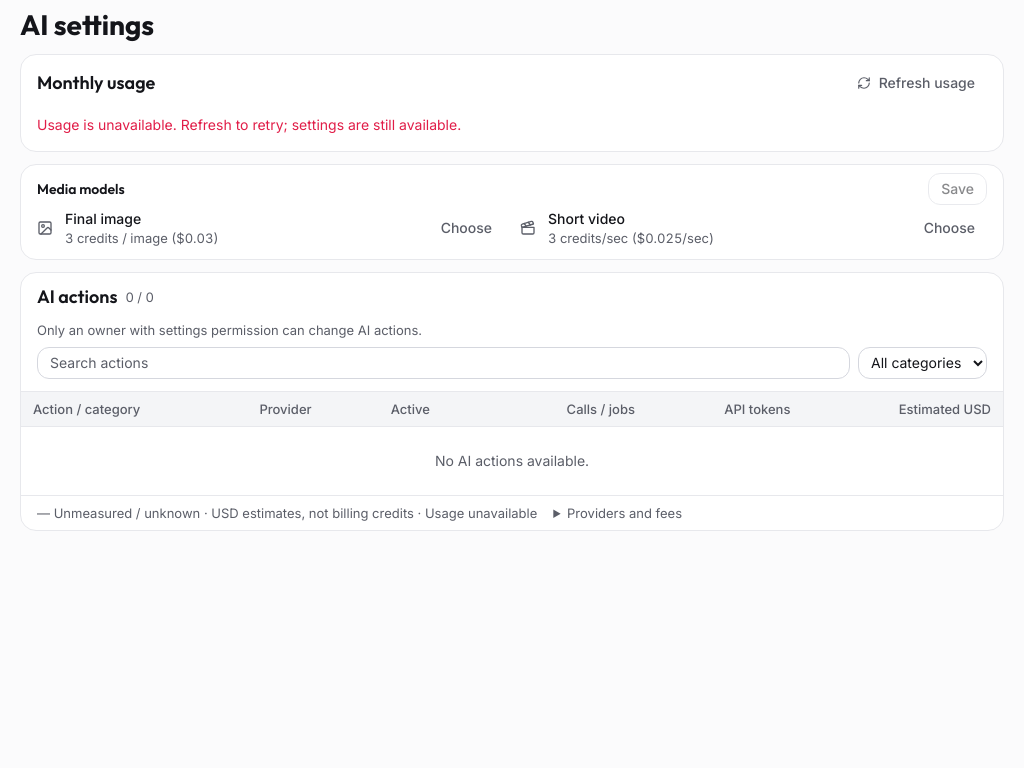
Scenario: AiModelsPage › shows the flat per-run tariff for a video model instead of an unknown per-second rate
Click the button with aria-label "Choose video model". click: (949, 228)
box: [912,212,987,244]
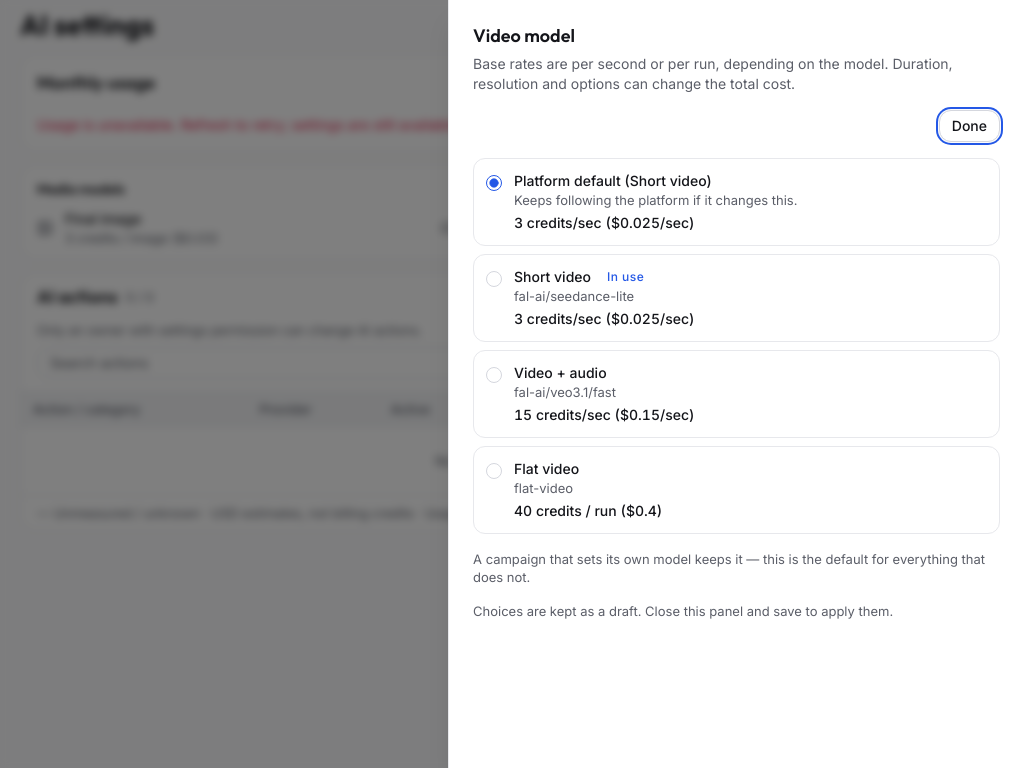
Expected: the radio button named "Flat video 40 credits / run ($0.4)" next to "Flat video" is shown, [486,463,502,479]
